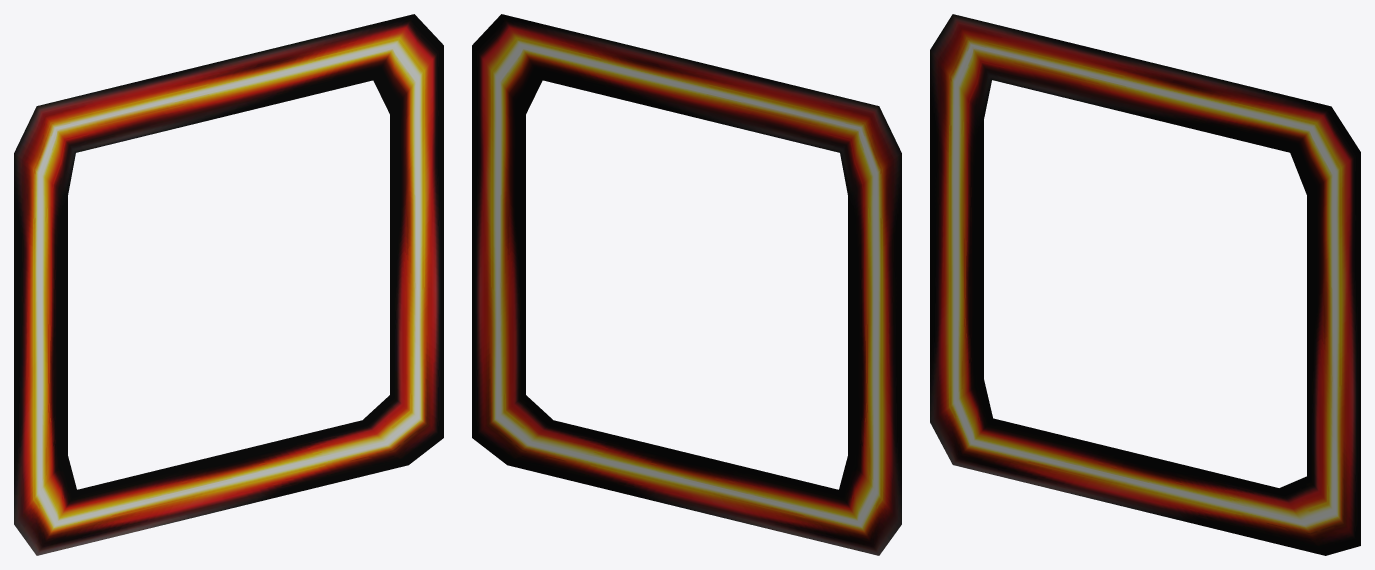
Rendered from kuang.FBX.
The picture shows the model from 3 angles, left to right: view 1: azimuth 30°, elevation 25°; view 2: azimuth 150°, elevation 25°; view 3: azimuth 330°, elevation 25°; orthographic projection.
Visible parts, largest first — view 1: kuang; view 2: kuang; view 3: kuang.
Part boxes in pixels (<box>): kuang: <box>14,14,443,555</box>; kuang: <box>472,14,901,555</box>; kuang: <box>930,14,1360,555</box>.
Bounding box in the file's own units: 162 × 162 × 2.64e-05.
Materials: 1 (1 with a texture image).
